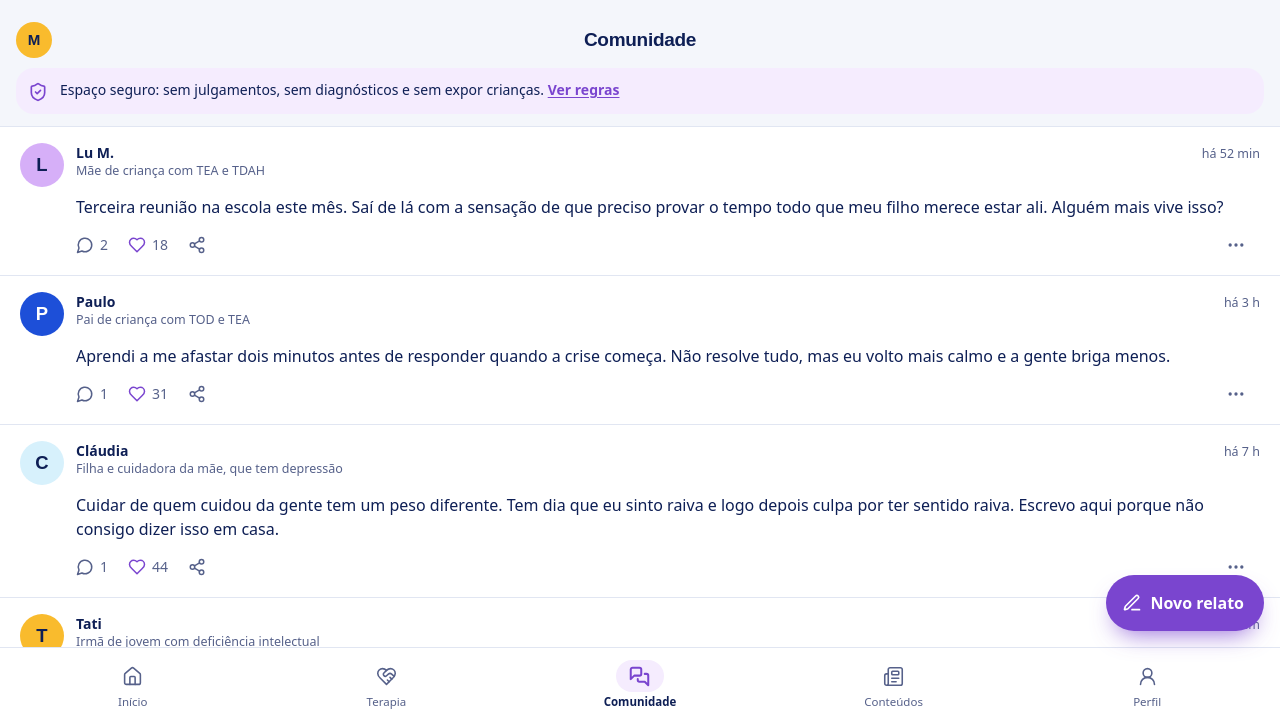
Test: Comunidade › denunciar esconde o relato
Click the button named "Mais opções" below "há 52 min".
click(1238, 245)  # box x1=1216 y1=223 x2=1260 y2=267
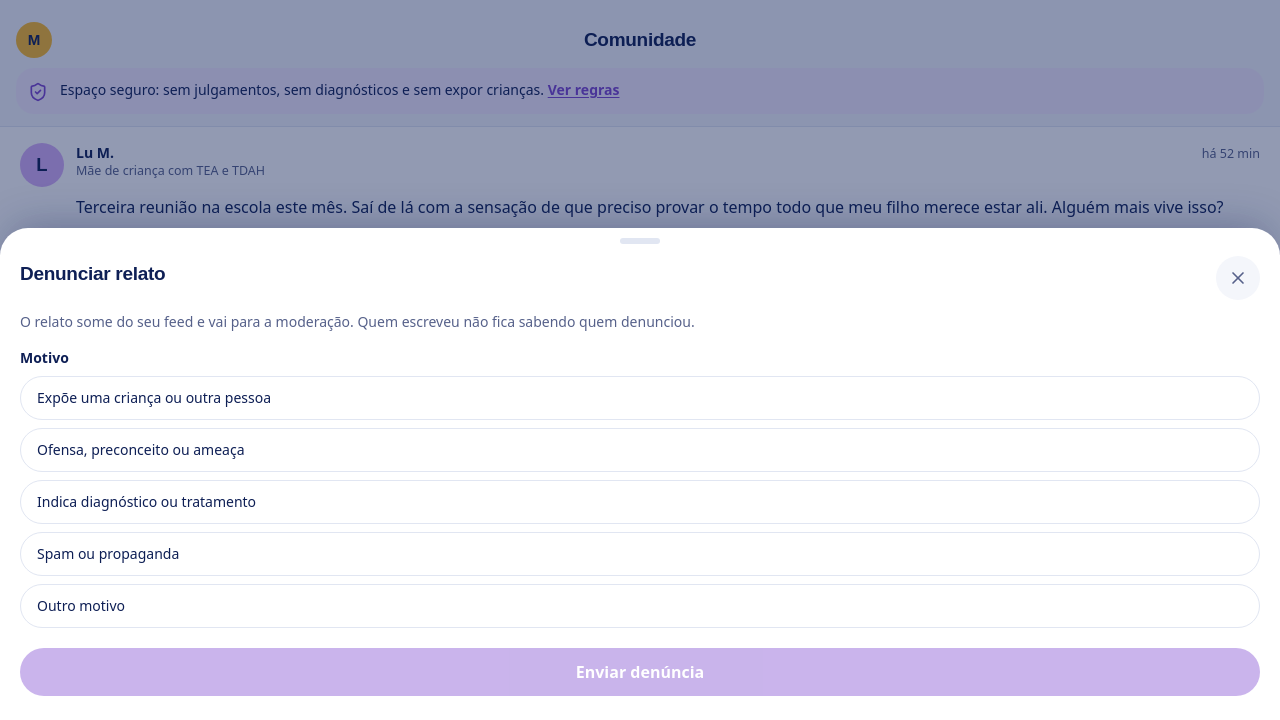
Click the radio button labelled "Expõe uma criança ou outra pessoa".
click(154, 398)  # box x1=20 y1=376 x2=1260 y2=420
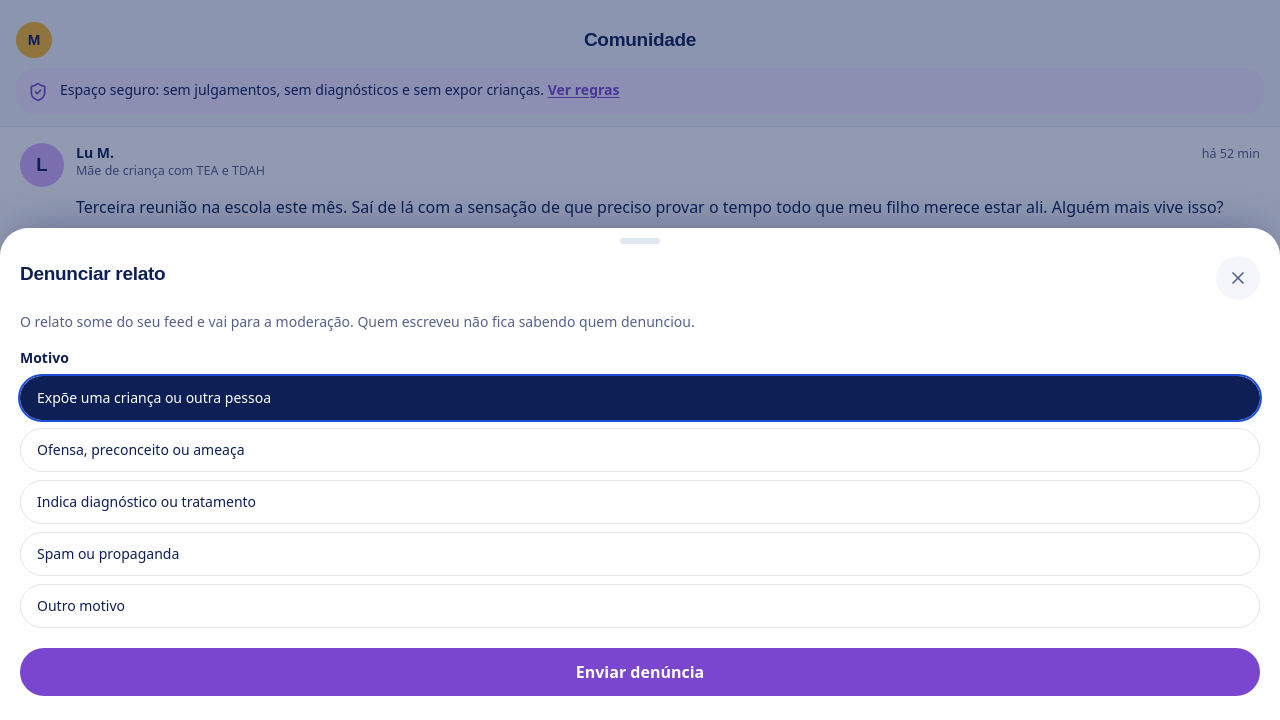
Click the button "Enviar denúncia".
click(640, 672)  # box x1=20 y1=648 x2=1260 y2=696
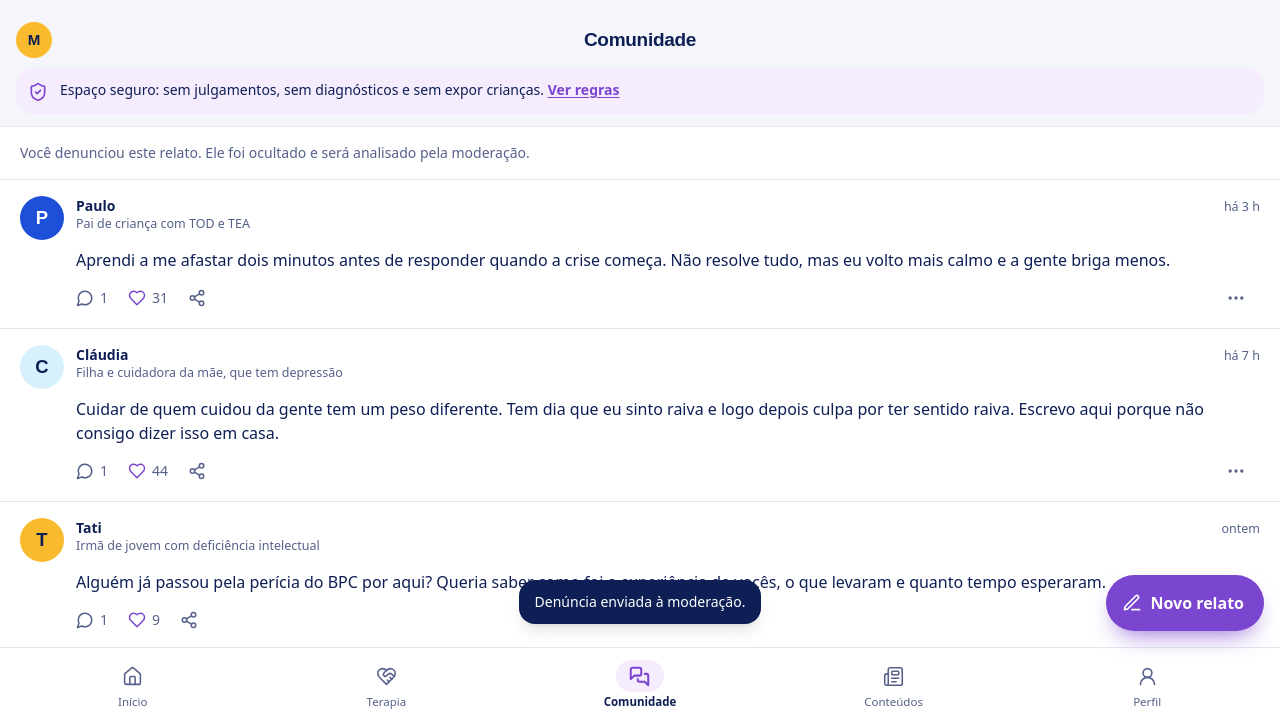
Expected: the button "Terceira reunião na escola este mês. Saí de lá com a sensação de que preciso provar o tempo todo que meu filho merece es" is gone
Expected: the list item "Você denunciou este relato" is shown, x1=20 y1=143 x2=530 y2=162
